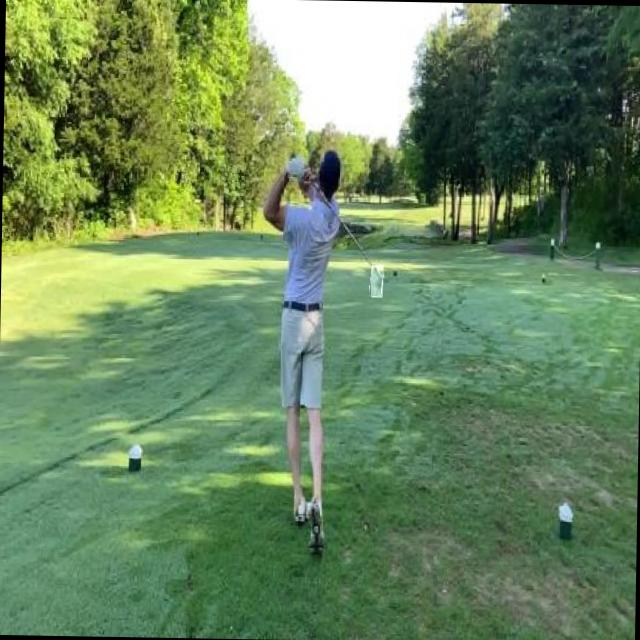club head: (370, 265, 383, 297)
